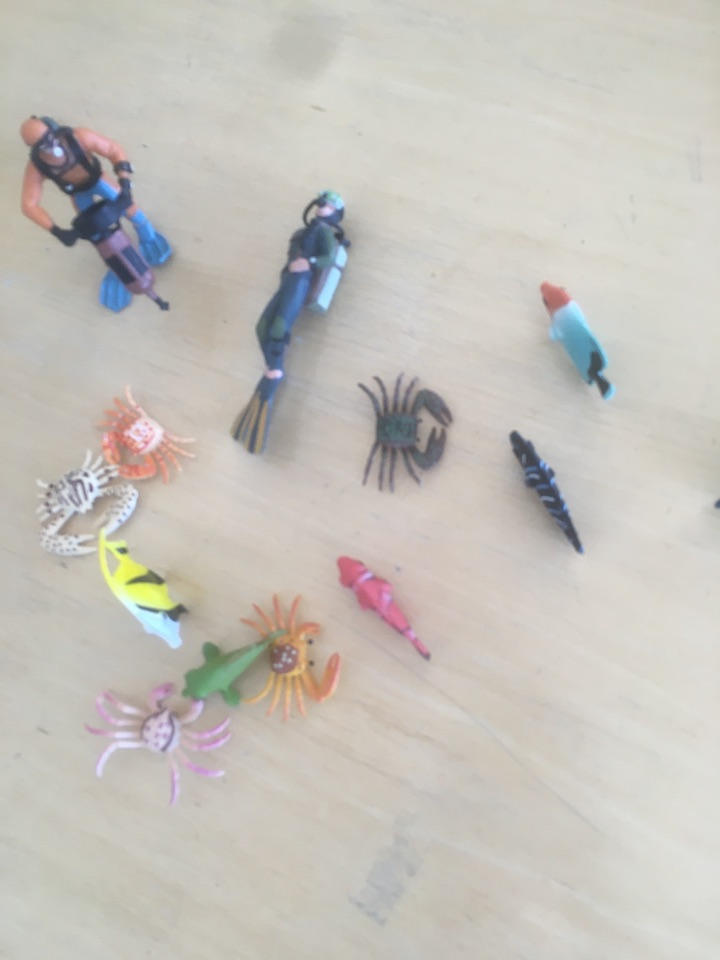crab: (85, 676, 231, 808), (229, 589, 346, 721), (354, 369, 456, 499), (29, 449, 142, 562), (86, 384, 199, 489)
danger: (93, 523, 190, 659)
diver: (224, 184, 356, 459), (14, 107, 180, 324)
fish: (333, 550, 440, 668), (508, 423, 589, 562), (174, 620, 296, 711), (536, 279, 622, 405)
